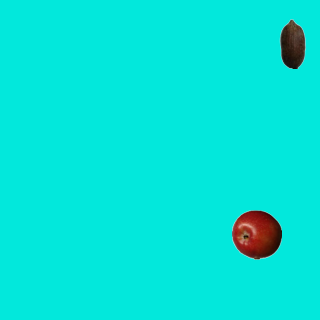Apple Braeburn: (231, 209, 281, 259)
Nut Pecan: (267, 18, 317, 68)
